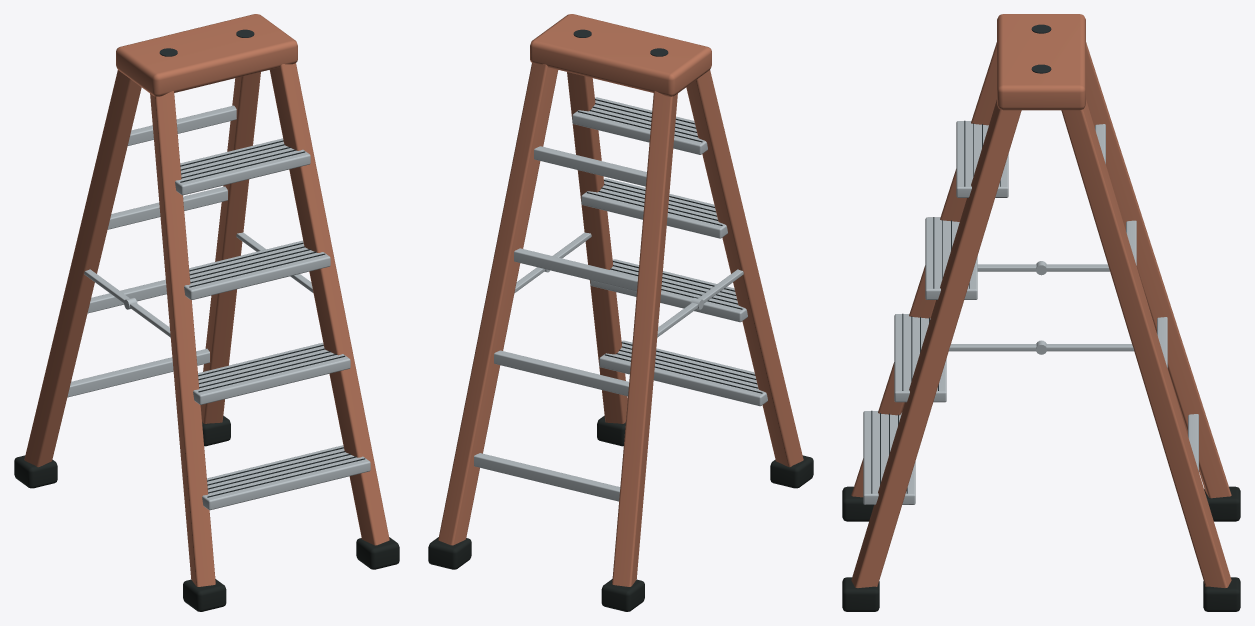
Rendered from folding-step-ladder.glb.
The picture shows the model from 3 angles, left to right: view 1: azimuth 30°, elevation 25°; view 2: azimuth 150°, elevation 25°; view 3: azimuth 270°, elevation 25°; orthographic projection. The views are drawn at different scales.
Parts seen in each view (by area): view 1: folding-step-ladder authored assembly; view 2: folding-step-ladder authored assembly; view 3: folding-step-ladder authored assembly.
Boxes of the visible parts, bbox=[...] form: folding-step-ladder authored assembly: bbox=[14, 14, 399, 611]; folding-step-ladder authored assembly: bbox=[428, 14, 813, 611]; folding-step-ladder authored assembly: bbox=[842, 14, 1240, 611].
Size of the model in its own units: 0.54 by 1.22 by 0.86.
